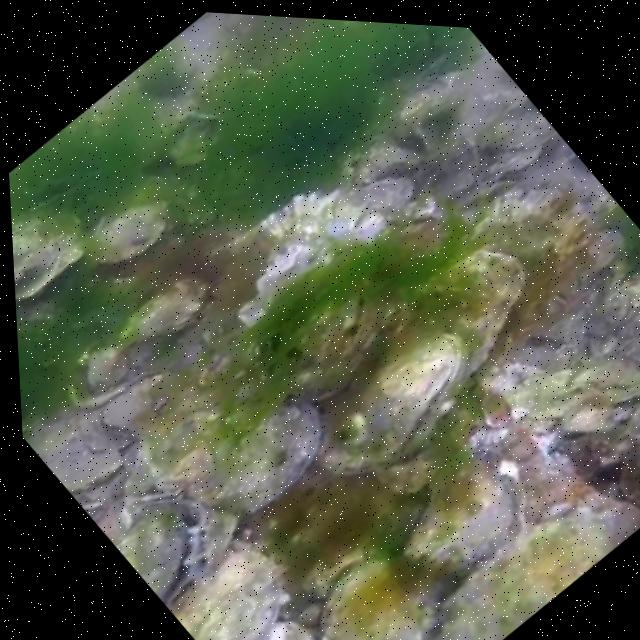Oyster-Closed: (285, 303, 501, 508), (266, 534, 457, 640)
Oyster-Indeterminate: (398, 451, 640, 640), (169, 356, 350, 535), (231, 244, 408, 418), (381, 223, 556, 392), (386, 442, 546, 596), (144, 506, 310, 640), (71, 171, 188, 284), (112, 255, 227, 365), (105, 491, 215, 603), (453, 344, 559, 444), (10, 200, 69, 342), (546, 210, 640, 299), (388, 51, 482, 140), (543, 385, 634, 475), (560, 335, 640, 432), (335, 117, 423, 202), (66, 323, 152, 407), (292, 524, 377, 606), (519, 350, 602, 431), (591, 246, 640, 343), (224, 601, 341, 640)
Oyster-Open: (87, 354, 198, 460)
